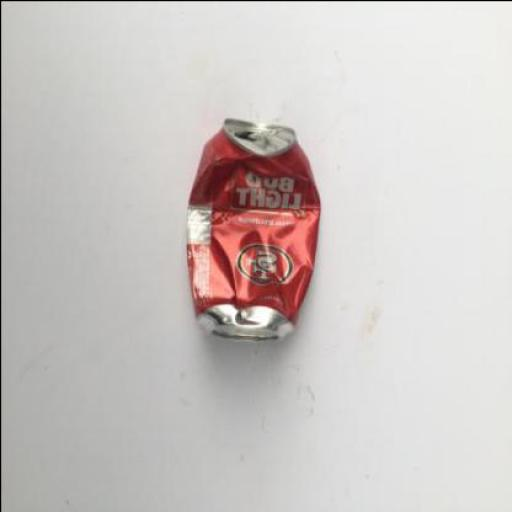metal: (185, 118, 320, 340)
